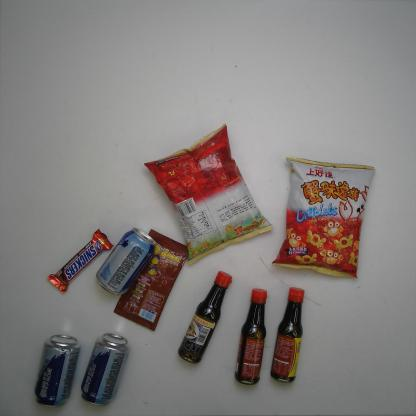Alcohol: (91, 226, 159, 300), (78, 332, 131, 408), (31, 334, 82, 410)
Candy: (110, 227, 192, 333)
Chocolate: (44, 226, 114, 296)
Puffed Food: (143, 123, 274, 268), (270, 156, 376, 280)
Seasoner: (176, 269, 233, 367), (267, 285, 309, 384), (233, 287, 271, 385)
